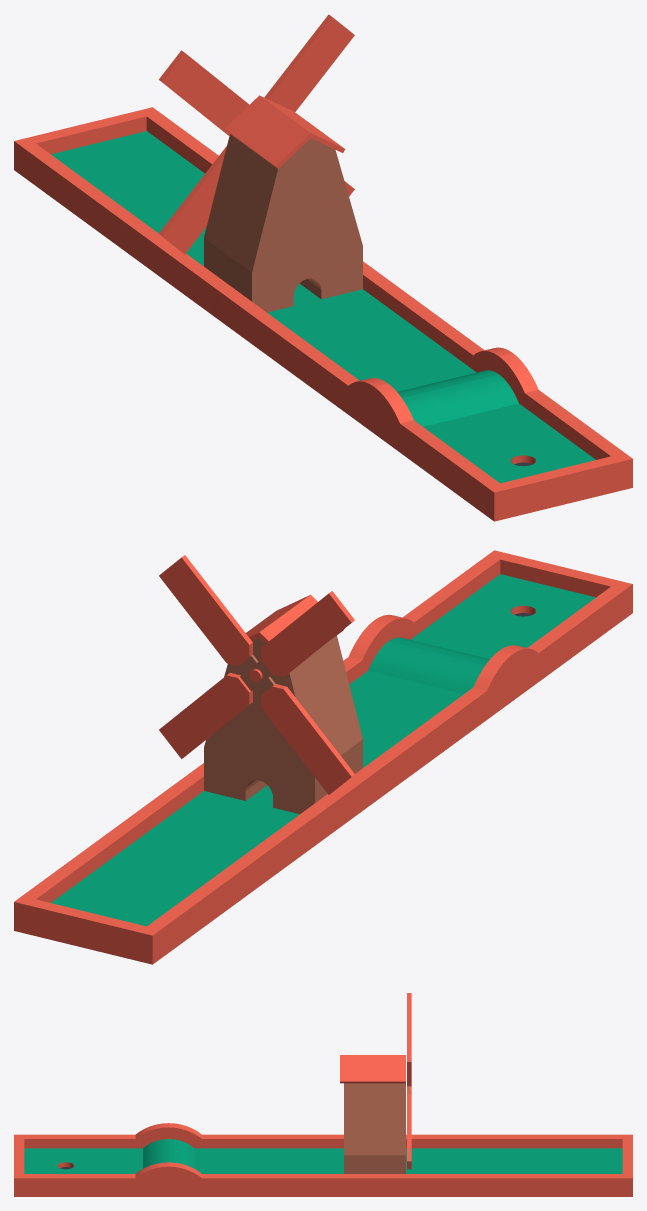
Rendered from Hole3Unmerged.obj.
3 views of the same model, one above another, from view 1: azimuth 30°, elevation 25°; view 2: azimuth 150°, elevation 25°; view 3: azimuth 270°, elevation 25° (orthographic). The views are drawn at different scales.
Parts seen in each view (by area): view 1: straight, building_windmill, end_hole, end, straight_bump, building_windmillWicks, building_door; view 2: straight, building_windmillWicks, end, end_hole, straight_bump, building_windmill, building_door; view 3: straight, straight_bump, end, end_hole, building_windmill, building_door, building_windmillWicks.
Boxes of the visible parts, x1=… form: straight: x1=94, y1=190, x2=472, y2=403; building_windmill: x1=204, y1=95, x2=362, y2=272; end_hole: x1=414, y1=400, x2=632, y2=521; end: x1=14, y1=107, x2=218, y2=228; straight_bump: x1=334, y1=341, x2=552, y2=462; building_windmillWicks: x1=159, y1=14, x2=354, y2=254; building_door: x1=204, y1=238, x2=362, y2=312; straight: x1=94, y1=670, x2=472, y2=905; building_windmillWicks: x1=159, y1=555, x2=354, y2=794; end: x1=14, y1=843, x2=232, y2=964; end_hole: x1=414, y1=550, x2=632, y2=671; straight_bump: x1=343, y1=609, x2=552, y2=729; building_windmill: x1=204, y1=594, x2=362, y2=773; building_door: x1=204, y1=739, x2=362, y2=814; straight: x1=220, y1=1134, x2=529, y2=1196; straight_bump: x1=117, y1=1123, x2=220, y2=1196; end: x1=529, y1=1134, x2=632, y2=1196; end_hole: x1=14, y1=1134, x2=116, y2=1196; building_windmill: x1=340, y1=1055, x2=405, y2=1155; building_door: x1=344, y1=1155, x2=405, y2=1173; building_windmillWicks: x1=407, y1=993, x2=411, y2=1169.
Bounding box in the file's own units: 1.39 × 1.7 × 6.
